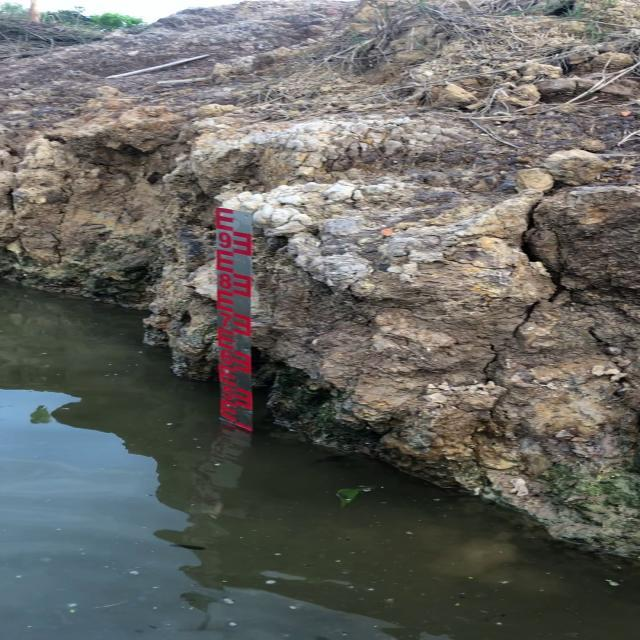ruler: (204, 197, 272, 436)
value: (214, 228, 233, 253), (216, 270, 234, 293), (219, 382, 238, 403), (216, 310, 233, 332), (217, 346, 234, 366)
